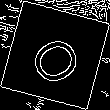O_NE: (22, 24, 88, 86)
